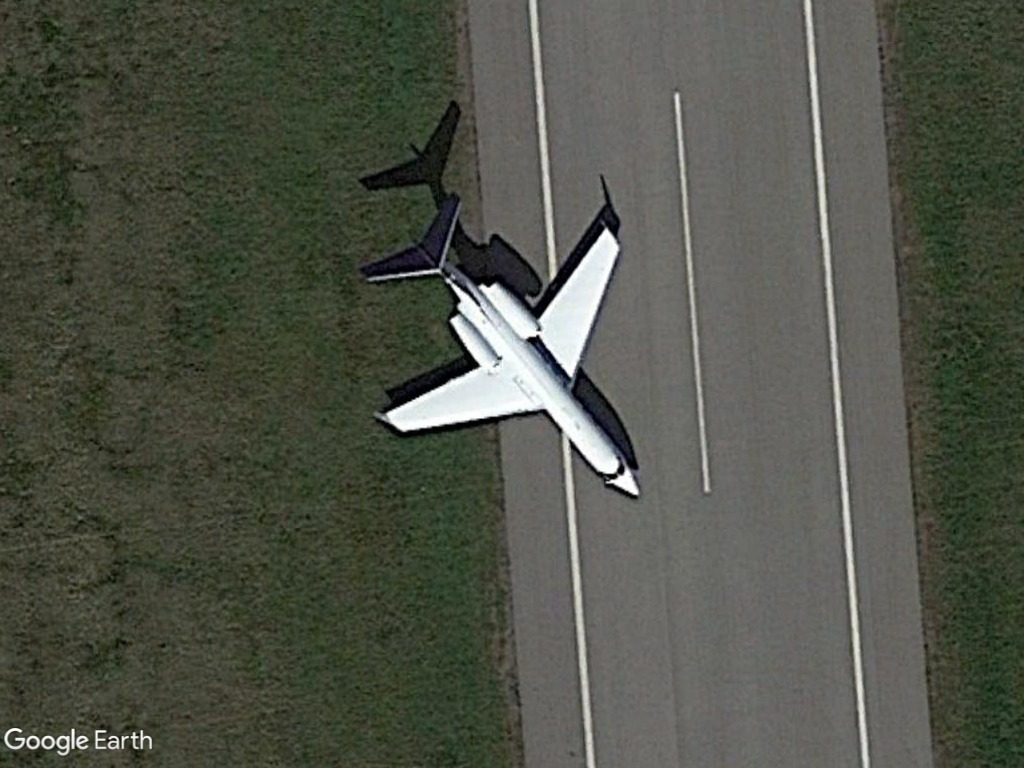chartered: (366, 190, 649, 505)
